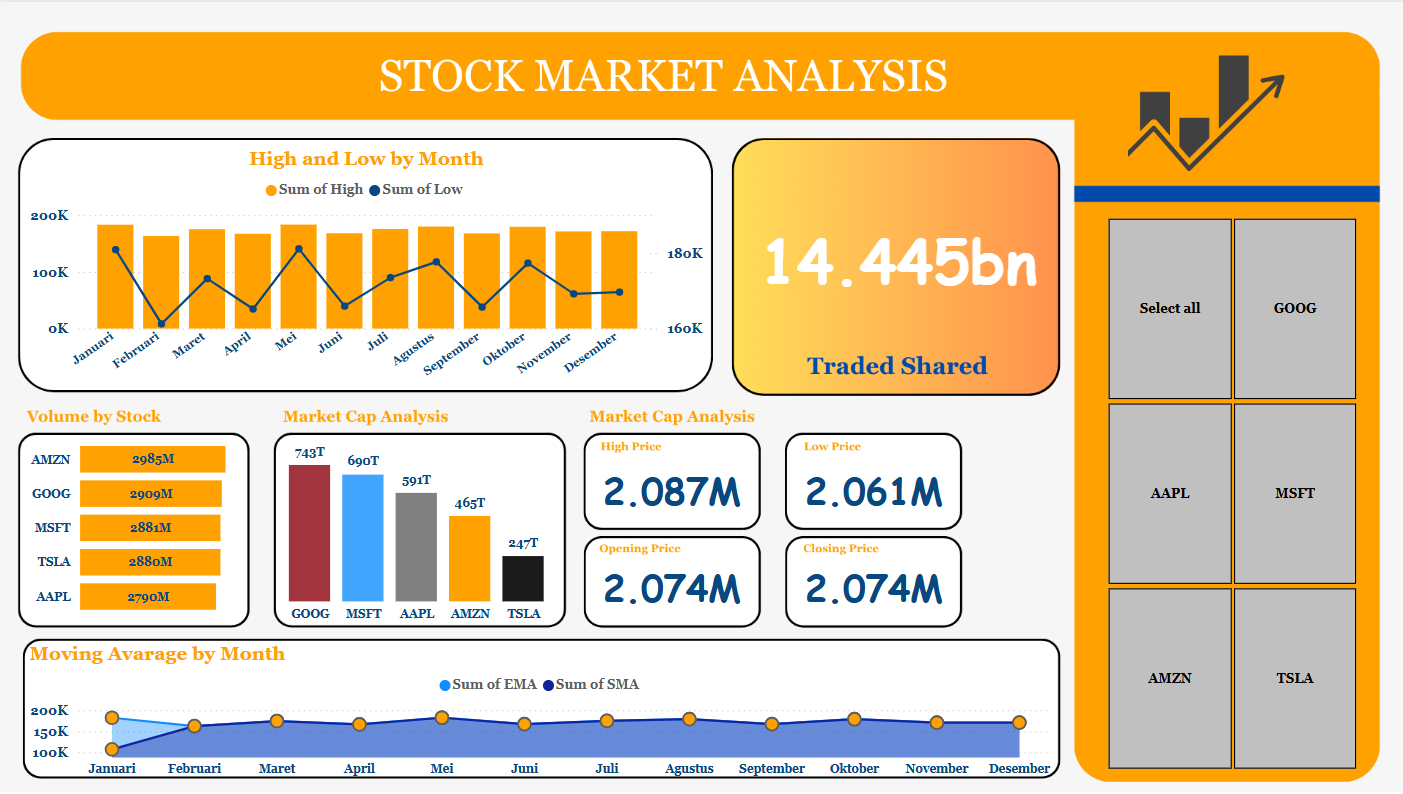

This screenshot's page, from the dashboard's own definition file:
{"tool":"powerbi","page":{"name":"Stock Market Analysis","canvas":[1280,720],"ordinal":0},"visuals":[{"type":"card","fields":{"Values":["Sum(STOCK DATASET.High)"]},"box":[532,407,161,75],"z":0},{"type":"card","fields":{"Values":["Sum(STOCK DATASET.Low)"]},"box":[715,407,161,75],"z":1000},{"type":"card","fields":{"Values":["Sum(STOCK DATASET.Open)"]},"box":[532,495,161,75],"z":2000},{"type":"card","fields":{"Values":["Sum(STOCK DATASET.Close)"]},"box":[715,495,161,75],"z":3000},{"type":"card","fields":{"Values":["Sum(STOCK DATASET.Volume)"]},"box":[686,152,265,163],"z":4000},{"type":"lineStackedColumnComboChart","title":"High and Low by Month","fields":{"Category":["STOCK DATASET.Date.Variasi.Hierarki Tanggal.Bulan"],"Y":["Sum(STOCK DATASET.High)"],"Y2":["Sum(STOCK DATASET.Low)"]},"box":[23.6,131.8,622.7,219.1],"z":5000},{"type":"clusteredColumnChart","fields":{"Y":["Sum(STOCK DATASET.Market Cap)"],"Category":["STOCK DATASET.Stock Symbol"]},"box":[240,388.2,281.8,182.7],"z":6000},{"type":"clusteredBarChart","fields":{"Category":["STOCK DATASET.Stock Symbol"],"Y":["Sum(STOCK DATASET.Volume)"]},"box":[23.6,378.2,224.5,192.7],"z":7000},{"type":"areaChart","title":"Moving Avarage by Month","fields":{"Category":["STOCK DATASET.Date.Variasi.Hierarki Tanggal.Bulan"],"Y":["Sum(STOCK DATASET.EMA)","Sum(STOCK DATASET.SMA)"]},"box":[23.6,581.8,940.9,130],"z":8000},{"type":"slicer","fields":{"Values":["STOCK DATASET.Stock Symbol"]},"box":[983.6,190,275.5,513.6],"z":9000}]}

Visuals, with their boxes in screenshot pixels (x1, y1, x2, y2), scaled from the page's 1280x720 canvas onto the 1403x794 screenshot:
card - Sum(STOCK DATASET.High): <box>583,449,760,532</box>
card - Sum(STOCK DATASET.Low): <box>784,449,960,532</box>
card - Sum(STOCK DATASET.Open): <box>583,546,760,629</box>
card - Sum(STOCK DATASET.Close): <box>784,546,960,629</box>
card - Sum(STOCK DATASET.Volume): <box>752,168,1042,347</box>
"High and Low by Month" lineStackedColumnComboChart: <box>26,145,708,387</box>
clusteredColumnChart - Sum(STOCK DATASET.Market Cap) x STOCK DATASET.Stock Symbol: <box>263,428,572,630</box>
clusteredBarChart - STOCK DATASET.Stock Symbol x Sum(STOCK DATASET.Volume): <box>26,417,272,630</box>
"Moving Avarage by Month" areaChart: <box>26,642,1057,785</box>
slicer - STOCK DATASET.Stock Symbol: <box>1078,210,1380,776</box>
